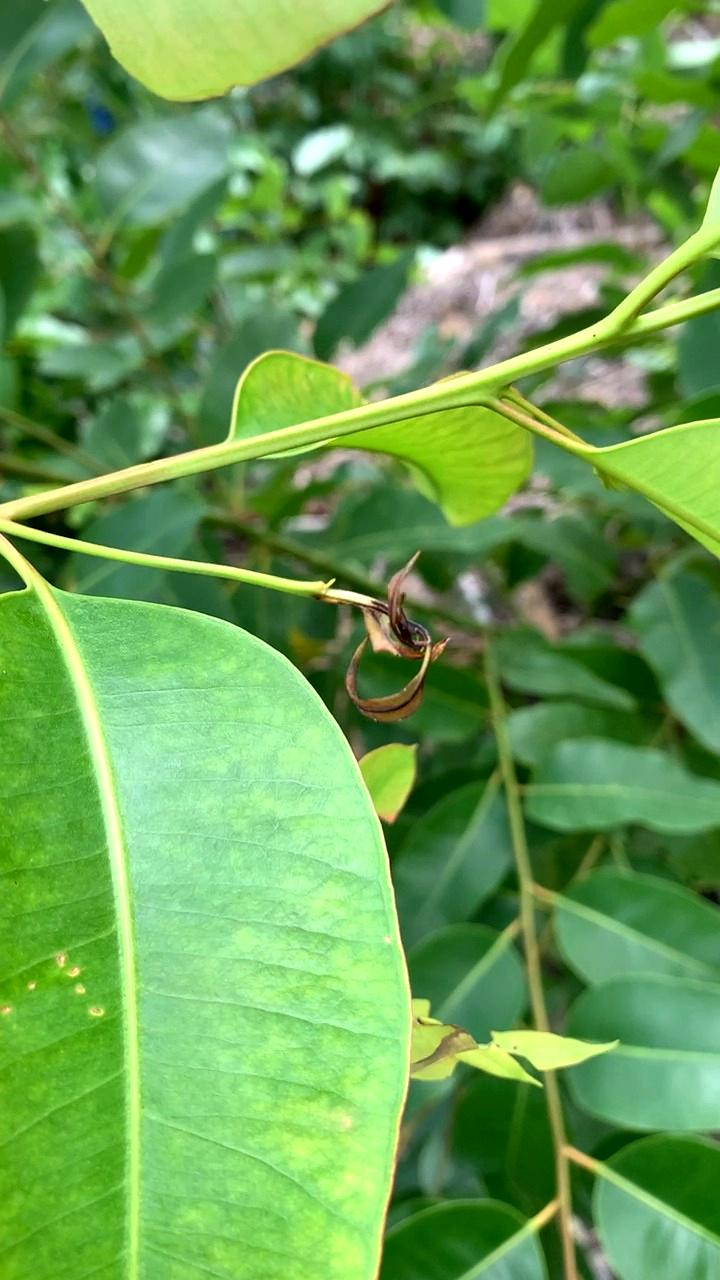Helopeltis-Withered Sprout: (336, 556, 457, 717)
